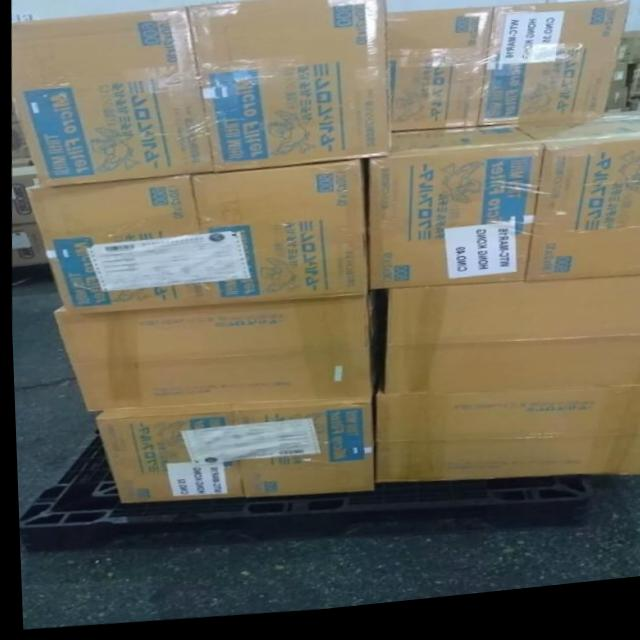box: (51, 296, 386, 412), (10, 9, 211, 188), (186, 0, 386, 176), (380, 288, 640, 402), (366, 134, 545, 297), (372, 391, 640, 490), (23, 178, 211, 315), (189, 167, 366, 308), (508, 125, 640, 293), (476, 11, 629, 134), (90, 409, 240, 505), (230, 404, 370, 500), (387, 16, 491, 138), (10, 166, 37, 224), (9, 224, 45, 264), (604, 100, 627, 122), (608, 75, 626, 99), (616, 49, 630, 74), (630, 82, 640, 110), (630, 49, 640, 76), (10, 156, 28, 166), (620, 43, 640, 51)
